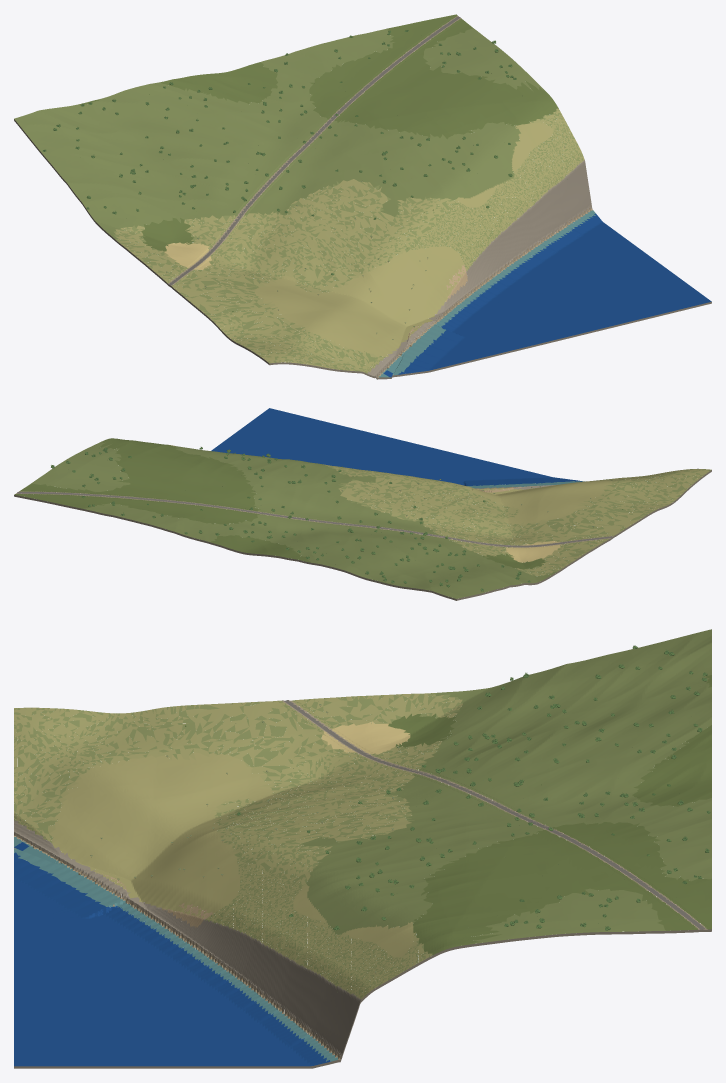
The model's file is parca_+7_-9-yakin.glb.
The picture shows the model from 3 angles, top to bottom: view 1: azimuth 30°, elevation 25°; view 2: azimuth 150°, elevation 25°; view 3: azimuth 270°, elevation 25°; orthographic projection. The views are drawn at different scales.
Visible parts, largest first — view 1: parca_+7_-9_arazi, parca_+7_-9_bitkiler, parca_+7_-9_yollar; view 2: parca_+7_-9_arazi, parca_+7_-9_bitkiler, parca_+7_-9_yollar; view 3: parca_+7_-9_arazi, parca_+7_-9_bitkiler, parca_+7_-9_yollar.
Boxes of the visible parts, x1,y1,x2,y2 form: parca_+7_-9_arazi: (14, 14, 711, 379); parca_+7_-9_bitkiler: (42, 20, 567, 339); parca_+7_-9_yollar: (168, 16, 460, 285); parca_+7_-9_arazi: (14, 408, 711, 600); parca_+7_-9_bitkiler: (51, 445, 648, 591); parca_+7_-9_yollar: (17, 492, 612, 547); parca_+7_-9_arazi: (14, 629, 711, 1068); parca_+7_-9_bitkiler: (15, 645, 710, 973); parca_+7_-9_yollar: (284, 700, 705, 929).
Bounding box in the file's own units: 1006 × 235 × 1000.
